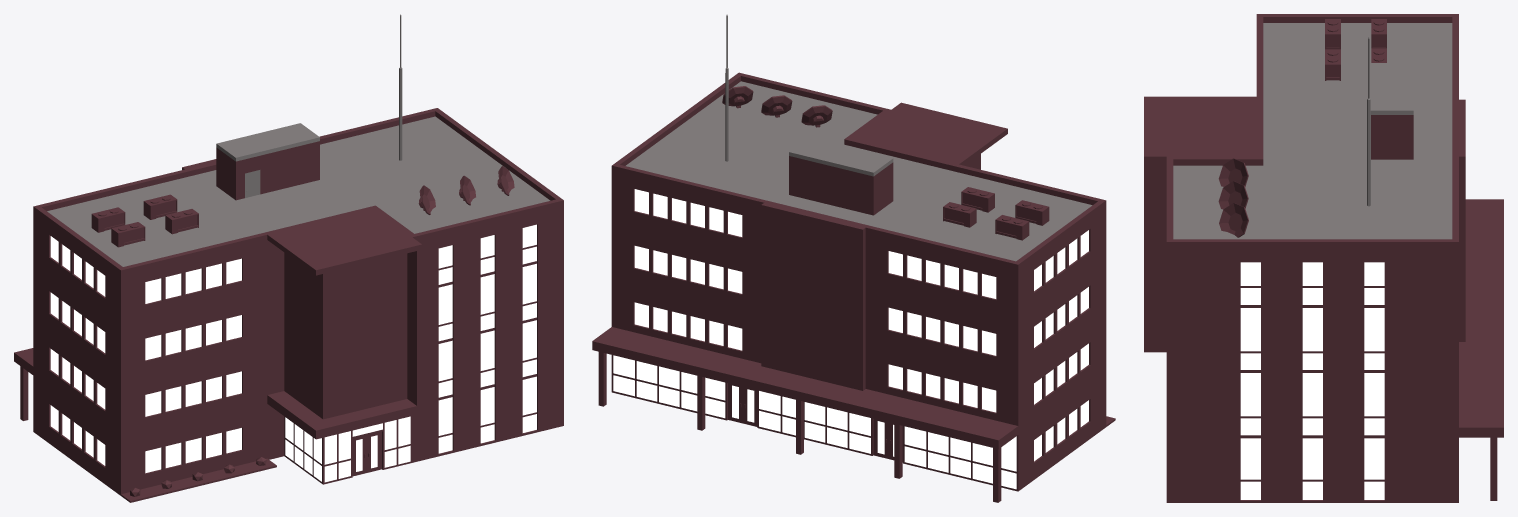
Rendered from buildings-data-center.glb.
3 renders of one model, left to right at view 1: azimuth 30°, elevation 25°; view 2: azimuth 150°, elevation 25°; view 3: azimuth 270°, elevation 25°, orthographic. The views are drawn at different scales.
Visible parts, largest first — view 1: data-center; view 2: data-center; view 3: data-center.
Part boxes in pixels (left/top/right/bottom): data-center: left=14, top=14, right=563, bottom=502; data-center: left=592, top=14, right=1115, bottom=502; data-center: left=1144, top=14, right=1503, bottom=502.
Size of the model in its own units: 24 by 20.79 by 16.
